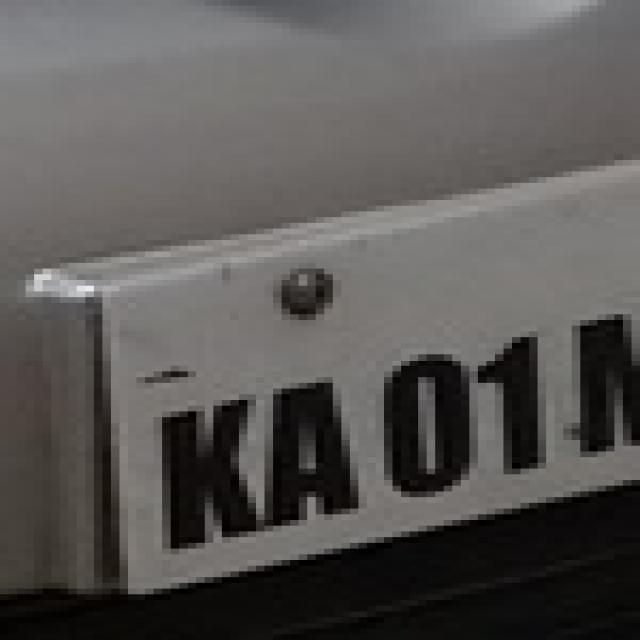licenseplate: (82, 282, 640, 590)
